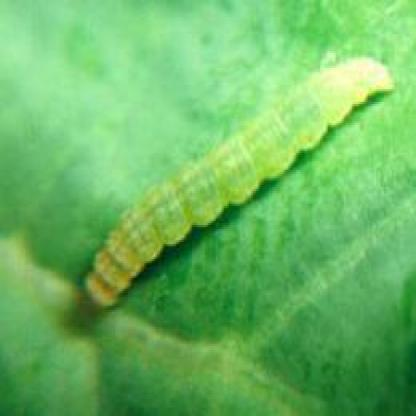armyworm: (47, 22, 412, 351)
